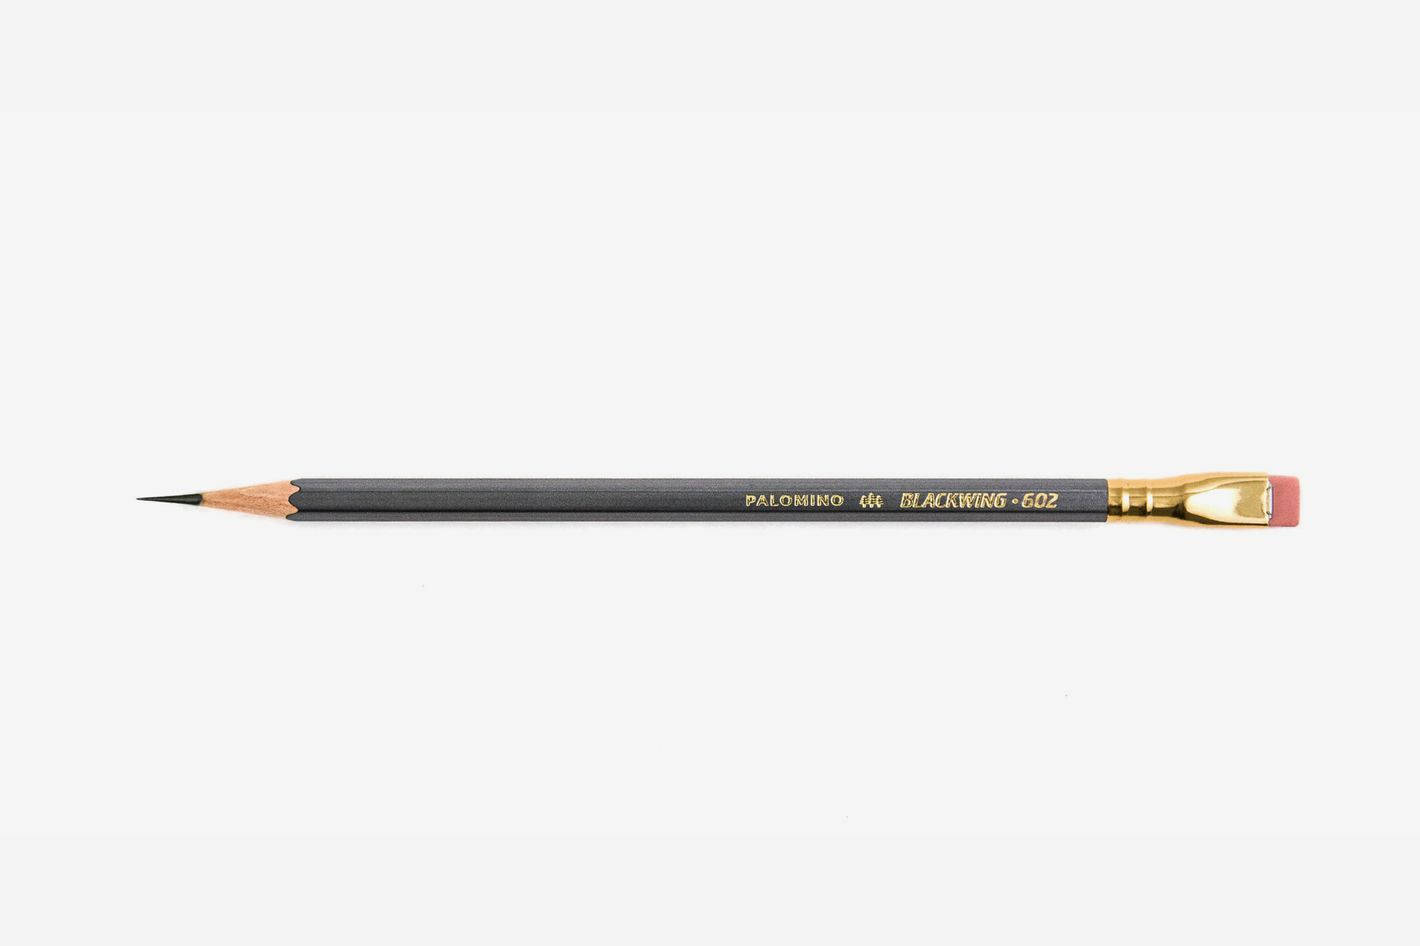pencil: (127, 452, 1319, 540)
